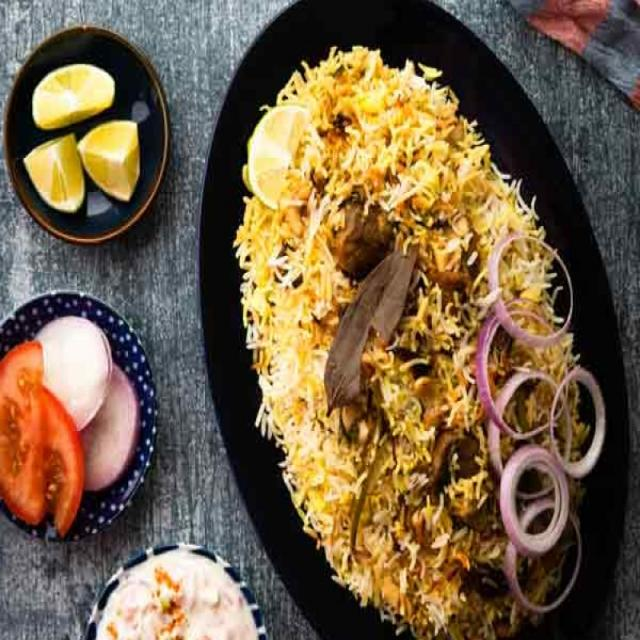Biryani: (236, 36, 610, 639)
